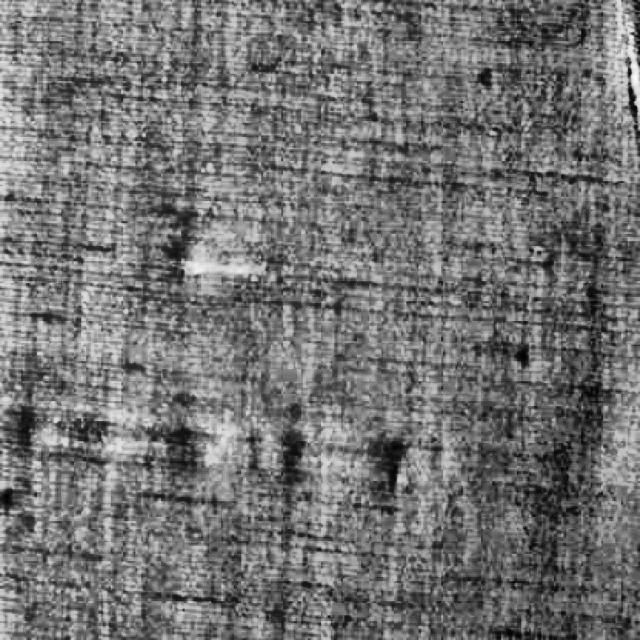thread_error: (157, 234, 270, 288), (605, 2, 640, 126)
